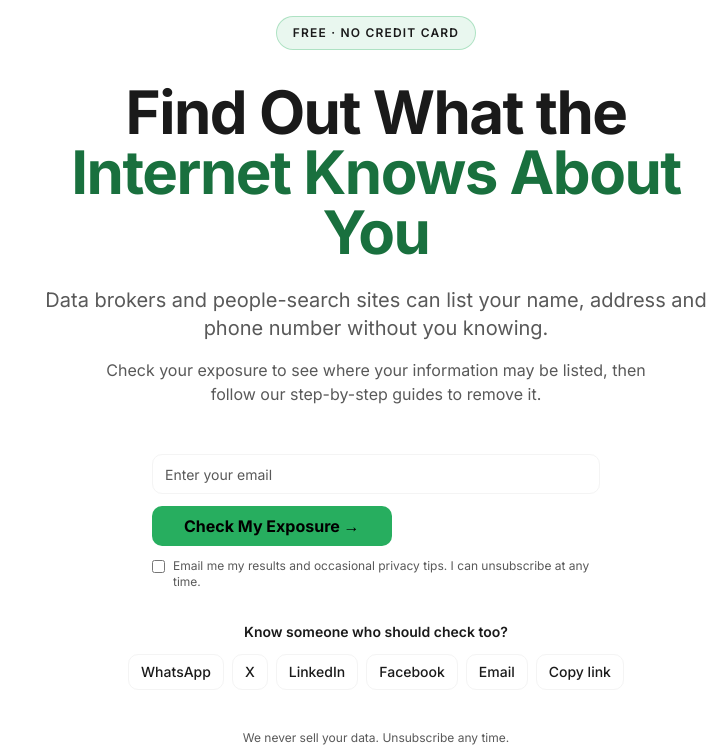
Test: Scan page: bad addresses (MPC-8453) › a common typo gets one 'did you mean', sends nothing, and the same address then goes through
The image size is (723, 746).
In the field named "Email address": [376, 474] box left=152, top=454, right=600, bottom=494, type "jane@gmial.com"
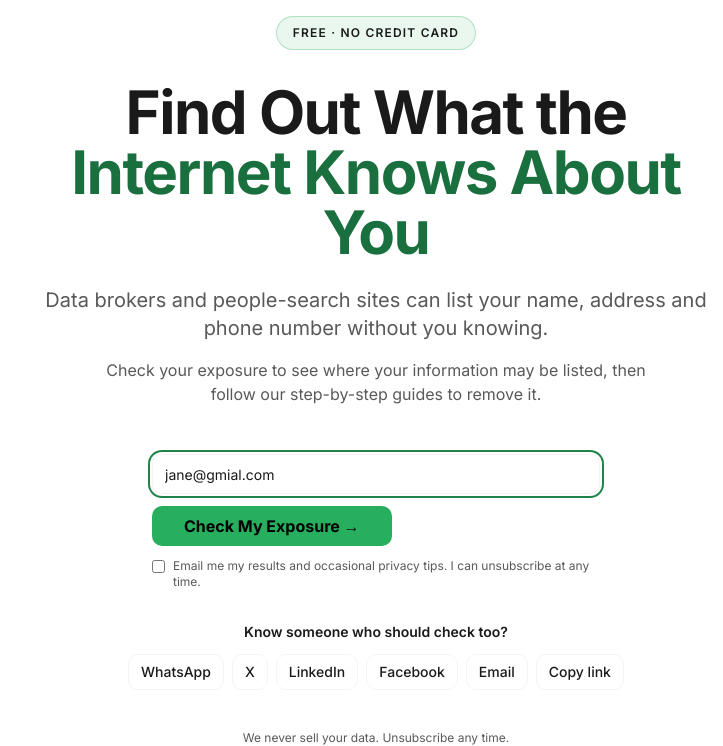
Click the checkbox labelled "Email me my results and occasional privacy tips": [158, 566] box left=152, top=560, right=165, bottom=573
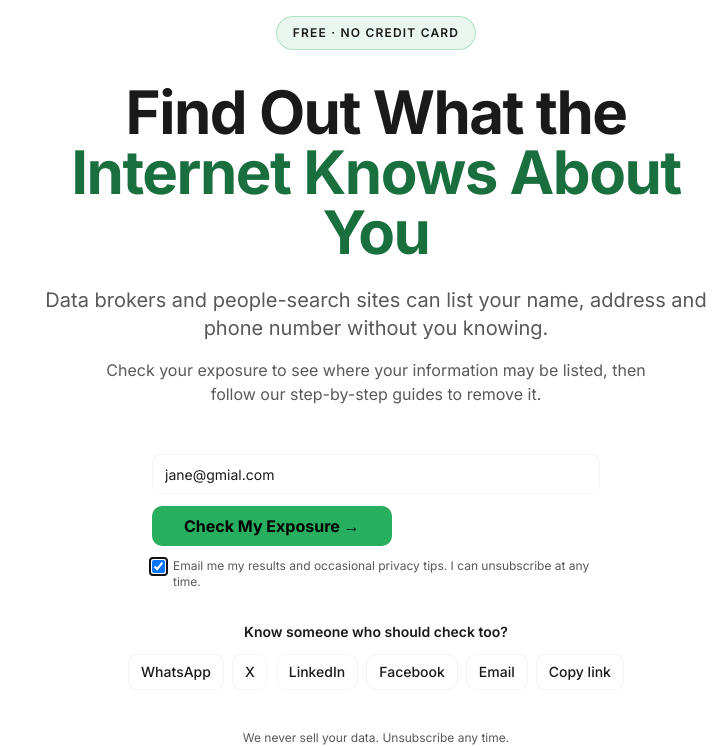
Click the button "Check My Exposure →": [272, 526] box left=152, top=506, right=392, bottom=546
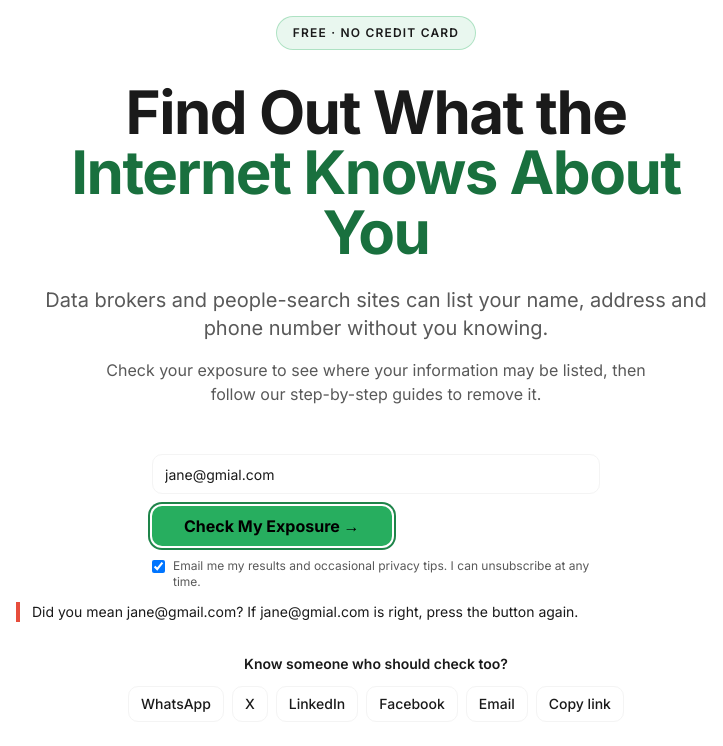
Check: the message shows "Did you mean jane@gmail.com?", box left=32, top=603, right=578, bottom=620
Click the button "Check My Exposure →": [272, 526] box left=152, top=506, right=392, bottom=546
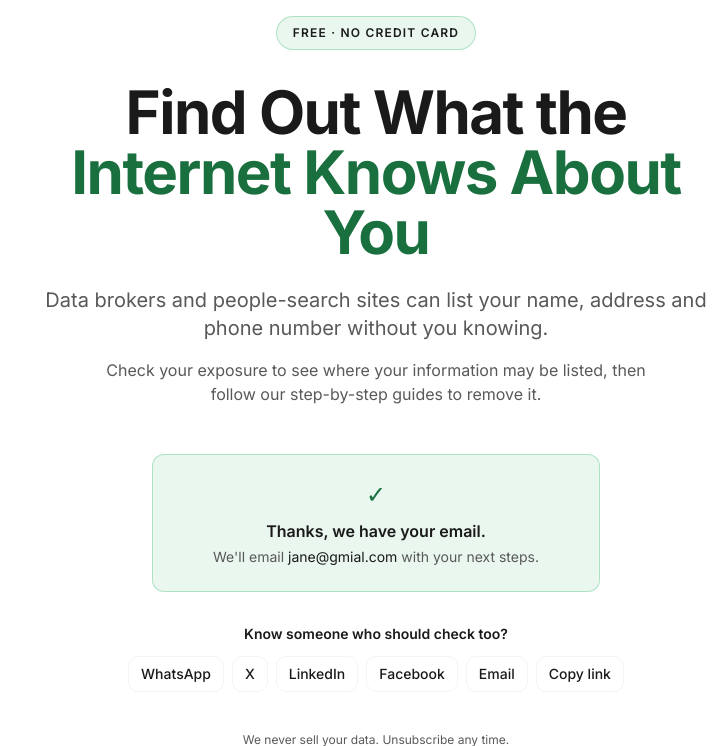
Check: the message shows "we have your email", box left=266, top=521, right=486, bottom=541
